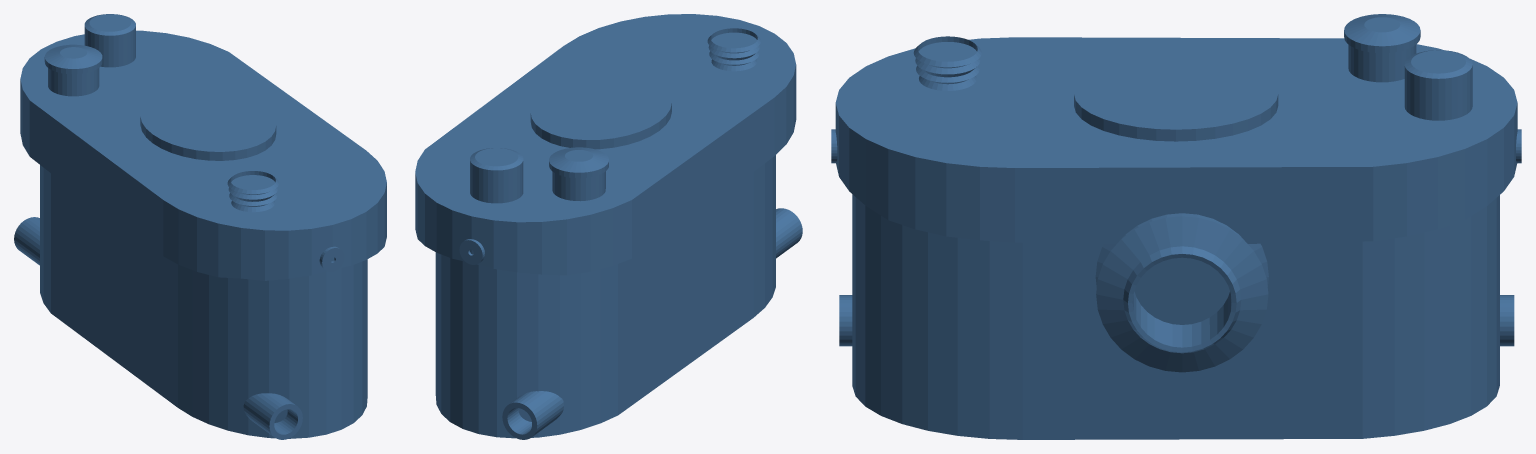
The model's file is Sanipro-XR-UP.glb.
The picture shows the model from 3 angles, left to right: view 1: azimuth 30°, elevation 25°; view 2: azimuth 150°, elevation 25°; view 3: azimuth 270°, elevation 25°; orthographic projection. The views are drawn at different scales.
Visible parts, largest first — view 1: Product8, cylinder, cylinder.002, cylinder.001, Cylinder.003, cylinder.003, Cylinder.002, Cylinder.001; view 2: Product8, cylinder, cylinder.002, cylinder.001, Cylinder.002, cylinder.003, Cylinder.003, Cylinder; view 3: Product8, cylinder.004, cylinder, cylinder.001, cylinder.002, cylinder.003, Cylinder.002, Cylinder.003.
Part boxes in pixels (box(x1,y1,x2,y2)): Product8: box(20, 30, 386, 438); cylinder: box(140, 89, 276, 160); cylinder.002: box(44, 44, 102, 96); cylinder.001: box(84, 14, 135, 67); Cylinder.003: box(243, 393, 302, 439); cylinder.003: box(227, 171, 278, 212); Cylinder.002: box(14, 217, 39, 265); Cylinder.001: box(319, 246, 344, 271); Product8: box(415, 14, 796, 438); cylinder: box(530, 75, 671, 149); cylinder.002: box(549, 147, 608, 201); cylinder.001: box(470, 148, 523, 203); Cylinder.002: box(502, 391, 563, 439); cylinder.003: box(707, 28, 760, 71); Cylinder.003: box(776, 208, 802, 258); Cylinder: box(459, 239, 484, 264); Product8: box(835, 37, 1517, 439); cylinder.004: box(1095, 213, 1268, 372); cylinder: box(1074, 57, 1278, 141); cylinder.001: box(1404, 50, 1472, 120); cylinder.002: box(1344, 14, 1420, 82); cylinder.003: box(913, 36, 981, 90); Cylinder.002: box(1500, 295, 1514, 346); Cylinder.003: box(839, 295, 852, 346).
Size of the model in its own units: 2.08 by 2.12 by 4.05.
